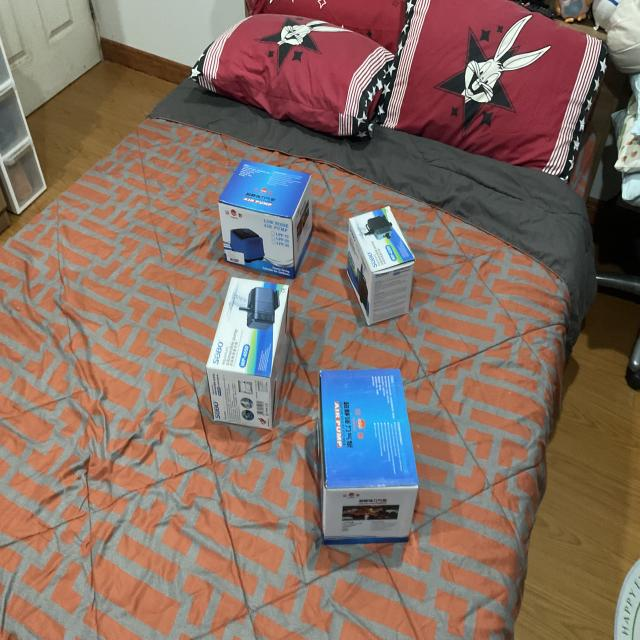SOBO_WP_4200: (198, 261, 309, 434), (340, 192, 432, 340)
YAMANO_LPP_20: (312, 356, 426, 560), (214, 147, 329, 279)
